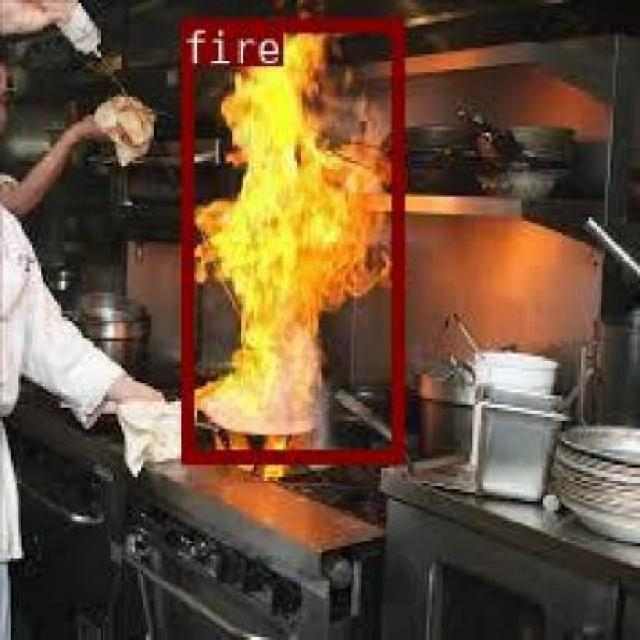Fire: (179, 16, 401, 462)
